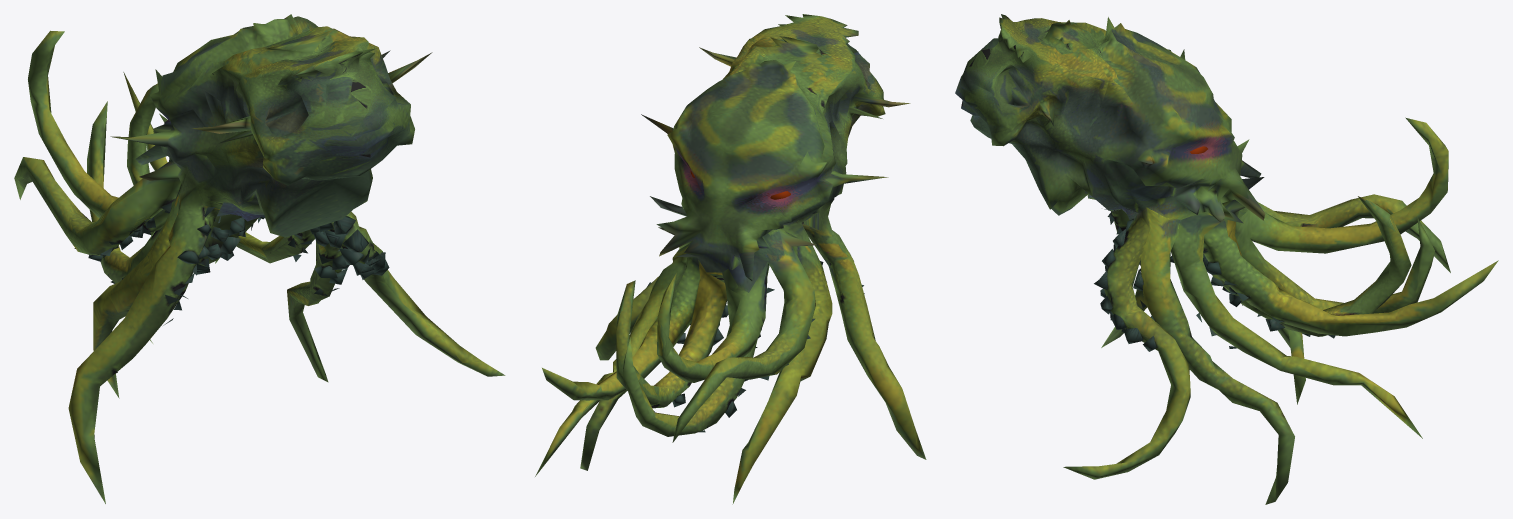
The model's file is plushcthulhu.fbx.
The picture shows the model from 3 angles, left to right: view 1: azimuth 30°, elevation 25°; view 2: azimuth 150°, elevation 25°; view 3: azimuth 270°, elevation 25°; orthographic projection. The views are drawn at different scales.
Visible parts, largest first — view 1: CthulhuHEAD5; view 2: CthulhuHEAD5; view 3: CthulhuHEAD5.
Boxes of the visible parts, x1=… form: CthulhuHEAD5: x1=14, y1=14, x2=505, y2=503; CthulhuHEAD5: x1=535, y1=14, x2=926, y2=504; CthulhuHEAD5: x1=955, y1=14, x2=1498, y2=504.
Size of the model in its own units: 0.5356 by 0.6118 by 0.7183.
